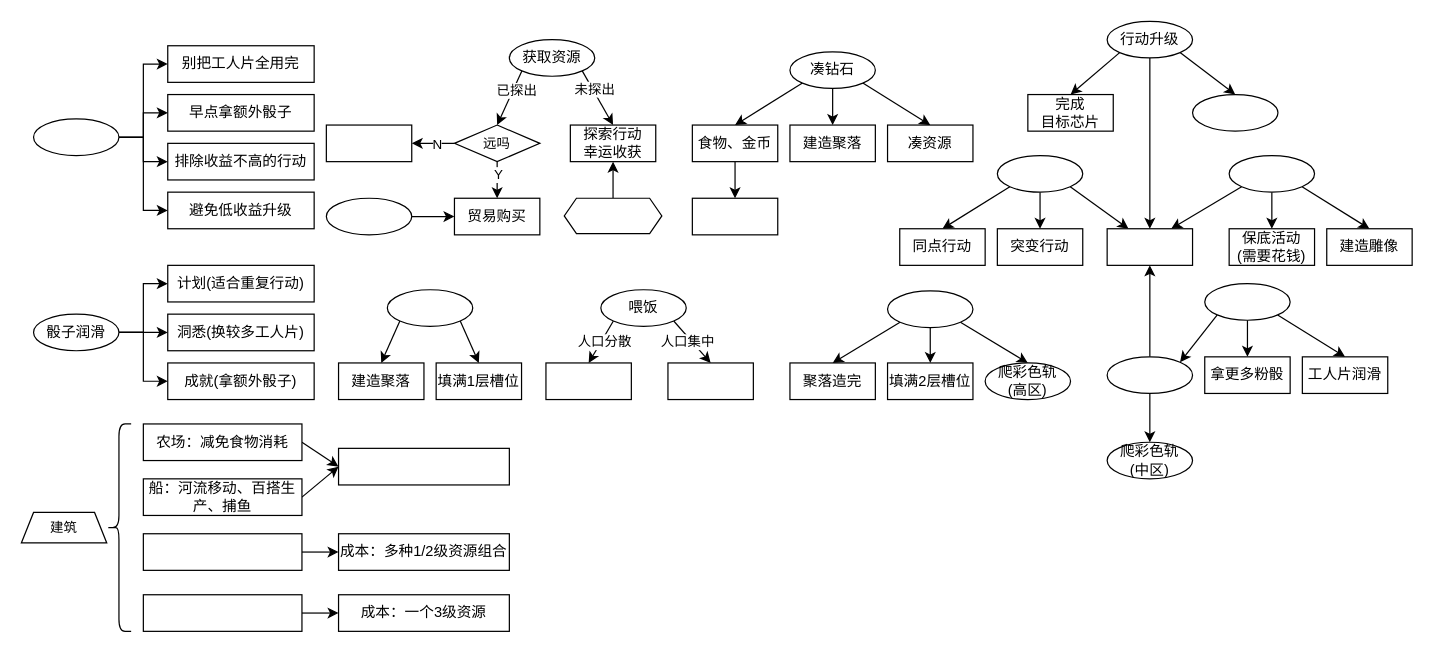
This 1434x653 diagram has some shape labels left out. Each missing label, with the centre of its shape:
卡牌: (1149,246)
基因: (1039,173)
工人片修正: (612,215)
建造农场: (710,381)
打猎: (588,381)
打猎、贸易: (734,216)
拿收入芯片: (429,307)
无成本: (423,466)
爬彩色轨: (1271,173)
爬彩色轨 (低 区 ): (1234,112)
爬恩惠轨: (1149,374)
翻转 7/10分板: (929,309)
聚落：钻石、收入芯片、翻面7/10分板: (222,551)
获取金币: (368,216)
走过去生产运输: (368,143)
过恩惠检定: (1247,301)
通用策略: (75,137)
雕像：爬轨、配合恩惠等级刷分: (222,612)
